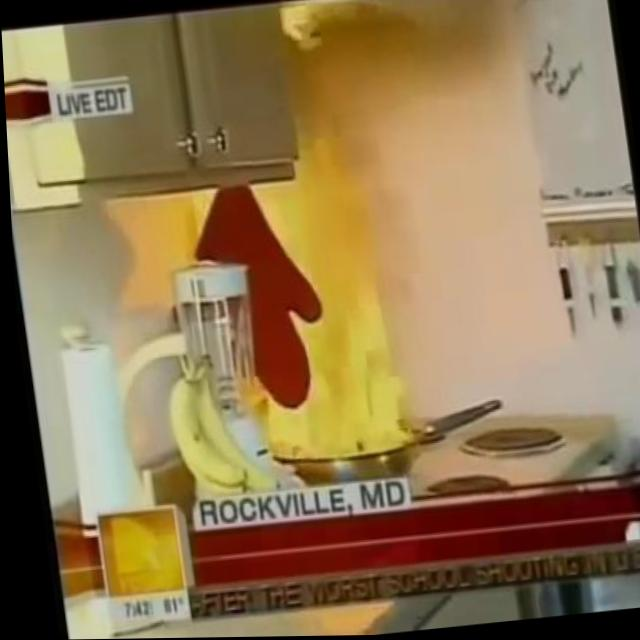fire: (191, 171, 426, 466), (279, 72, 411, 181)
